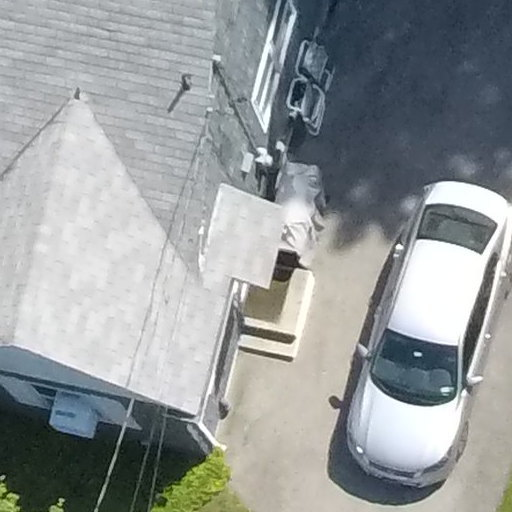car: (336, 134, 512, 500)
